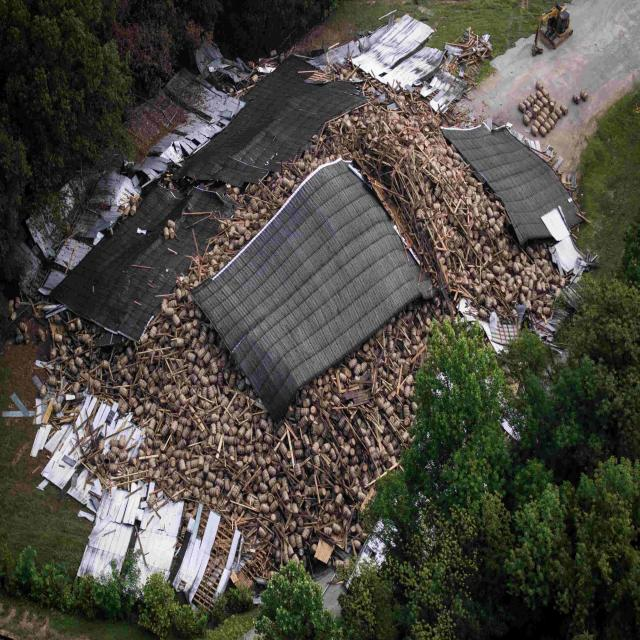collapsed_building: (23, 48, 554, 558)
